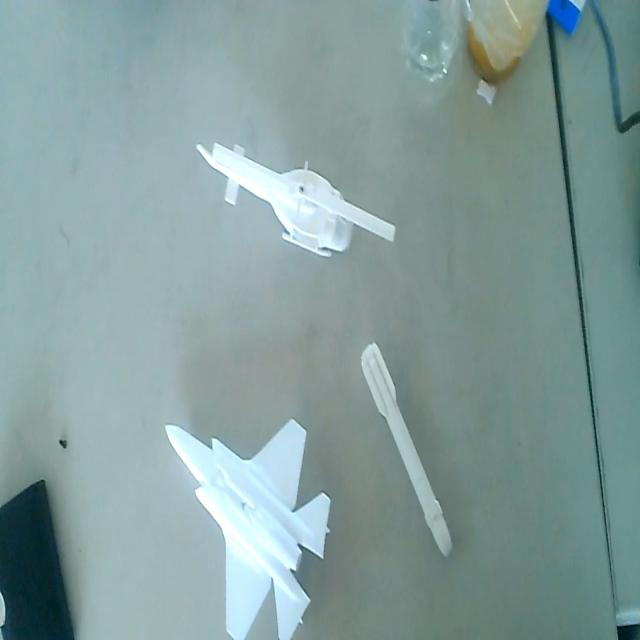Helicopter: (197, 128, 396, 263)
Jet: (159, 408, 334, 640)
Rocket: (358, 336, 456, 564)
